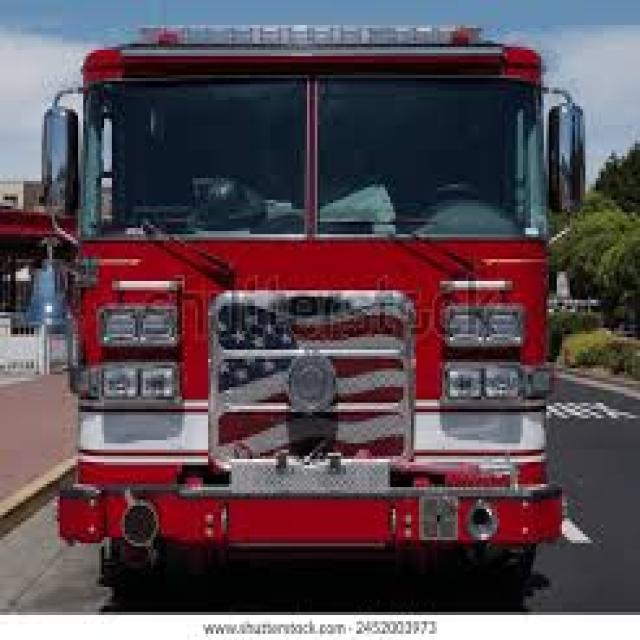Firetruck: (20, 17, 616, 603)
